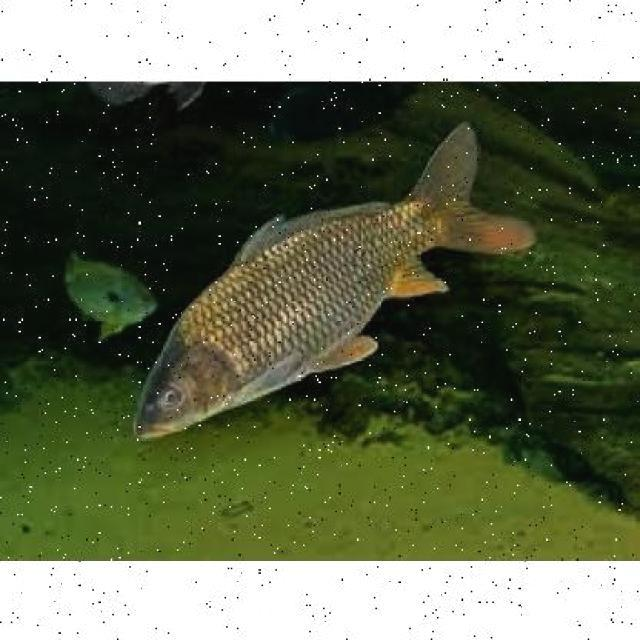ikan-mas: (130, 122, 522, 438)
